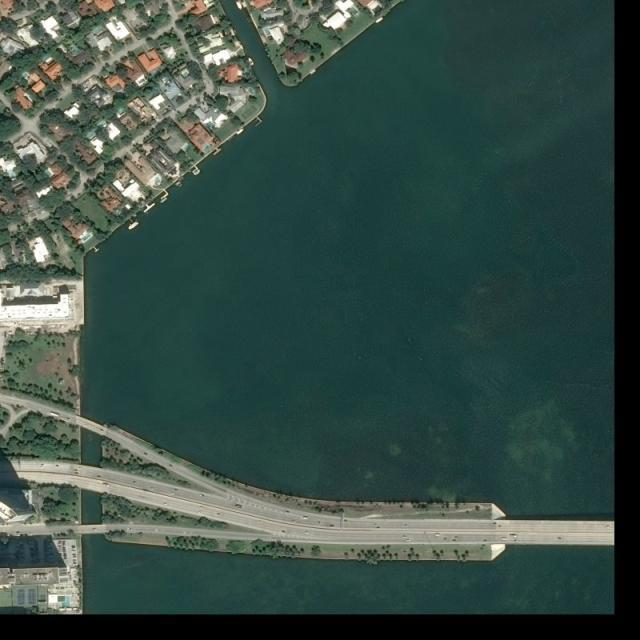ship: (128, 220, 140, 230), (374, 17, 384, 26), (236, 127, 246, 136), (247, 57, 255, 66), (193, 169, 202, 177), (161, 197, 167, 203)
